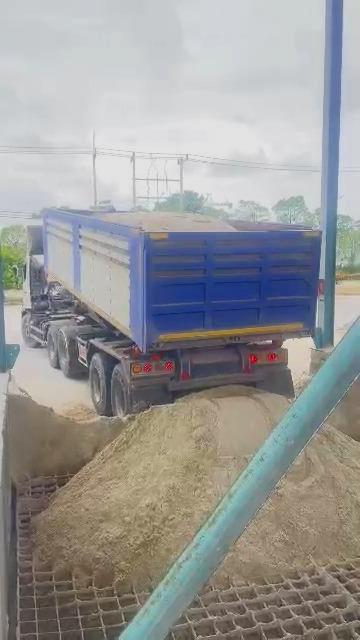sand: (35, 387, 287, 587), (215, 426, 360, 582), (7, 389, 125, 482), (100, 212, 234, 232), (329, 377, 360, 441), (59, 404, 98, 421)
